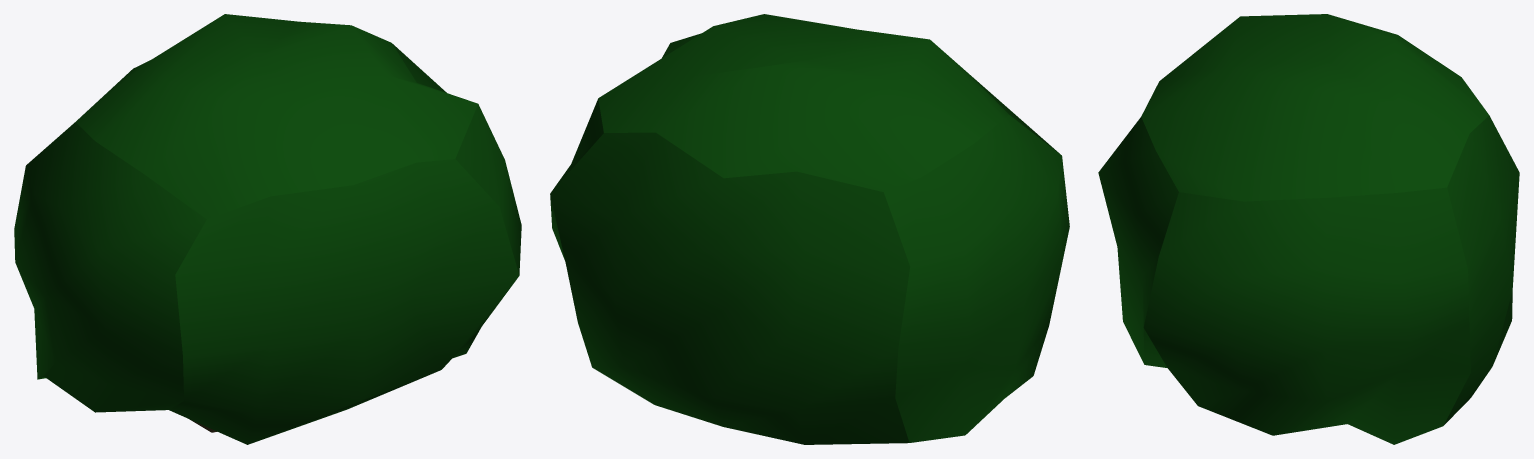
Rendered from Bush 1.FBX.
The picture shows the model from 3 angles, left to right: view 1: azimuth 30°, elevation 25°; view 2: azimuth 150°, elevation 25°; view 3: azimuth 270°, elevation 25°; orthographic projection. The views are drawn at different scales.
Parts seen in each view (by area): view 1: Box001; view 2: Box001; view 3: Box001.
Boxes of the visible parts, bbox=[...] form: Box001: bbox=[14, 14, 521, 444]; Box001: bbox=[550, 14, 1069, 444]; Box001: bbox=[1098, 14, 1519, 444].
Bounding box in the file's own units: 30.77 × 24.5 × 26.06.
